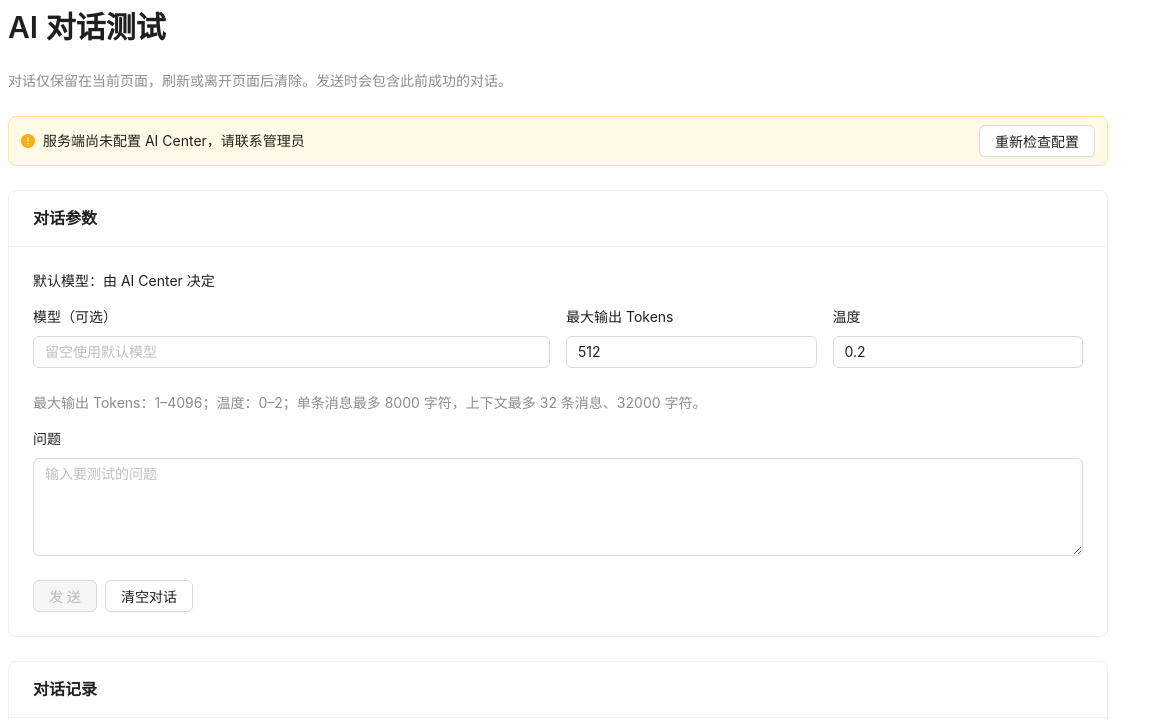
Test: AI dialogue at the HTTP boundary › refreshes server configuration after an administrator configures AI Center
Expected: the text box labelled "问题" is shown, top-left (33, 458), bottom-right (1083, 556)
Expected: the text "服务端尚未配置 AI Center，请联系管理员" is shown, top-left (43, 132), bottom-right (305, 149)
Click the button "重新检查配置" at (1037, 141), box top-left (979, 125), bottom-right (1095, 157)
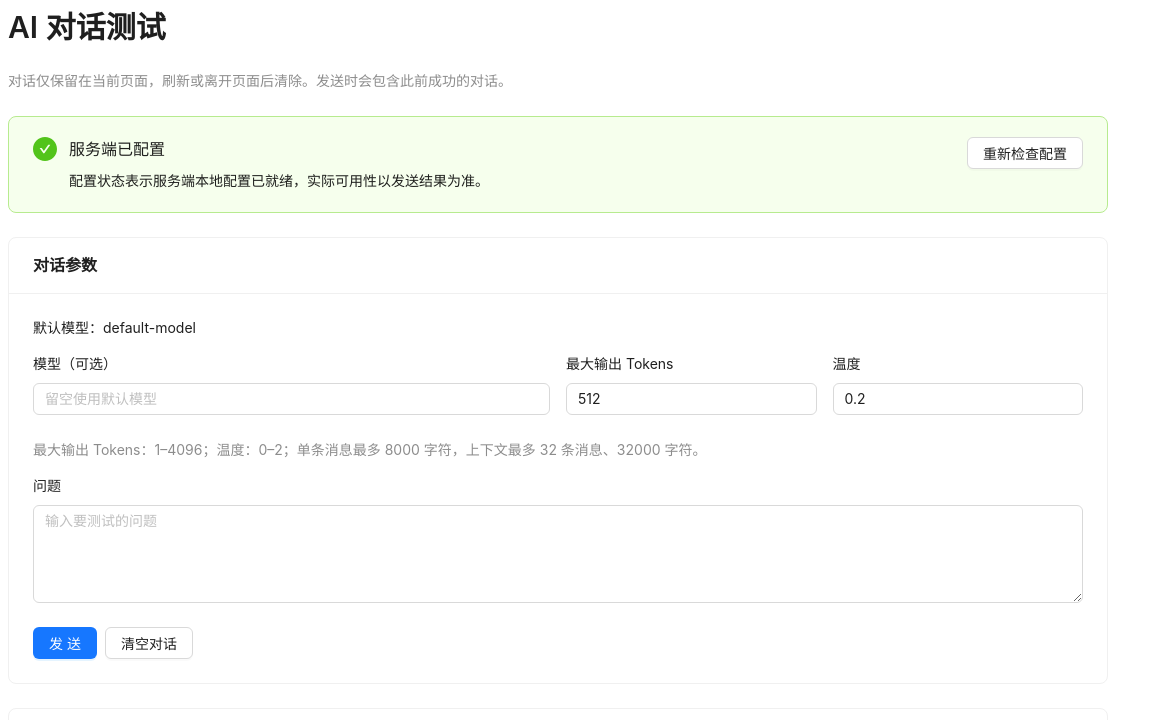
Expected: the text "服务端已配置" is shown, top-left (69, 139), bottom-right (165, 159)
Expected: the button named "发送" is enabled, top-left (33, 627), bottom-right (97, 659)
